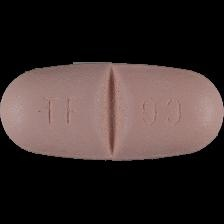0078-0457: (0, 0, 224, 224)
